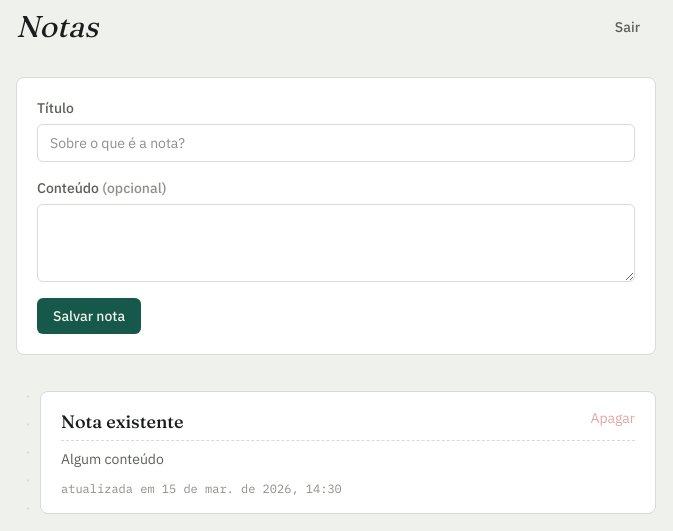
Scenario: NotesView › apaga uma nota e a remove da lista
Expected: the heading "Nota existente" is shown, [61, 408, 184, 436]
Click the button "Apagar" at (613, 418), box [590, 408, 635, 428]
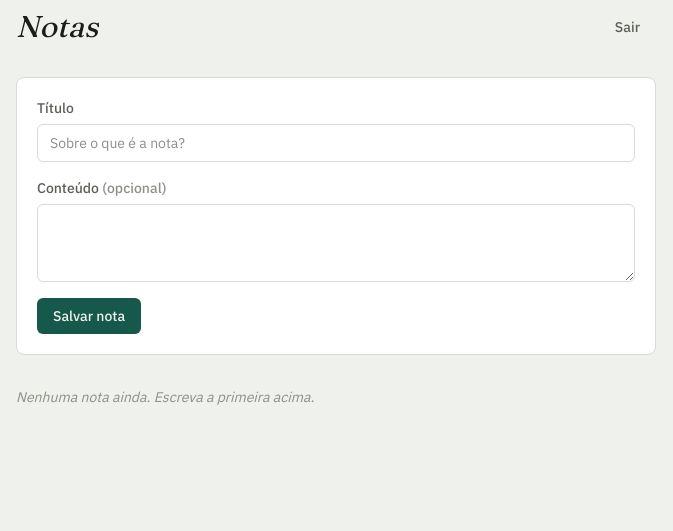
Result: the heading "Nota existente" is gone
Result: the text "Nenhuma nota ainda. Escreva a primeira acima." is shown at [16, 388, 314, 406]
